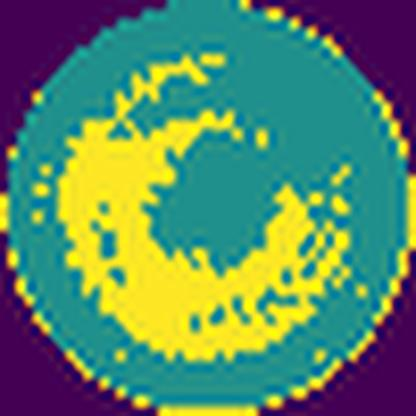Donut: (53, 40, 360, 382)
